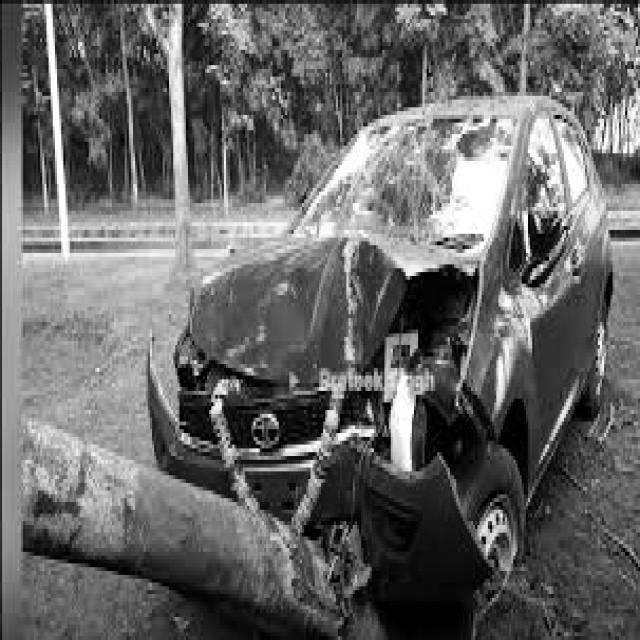Front-windscreen-damage: (353, 115, 509, 237)
bonnet-dent: (164, 235, 481, 430)
